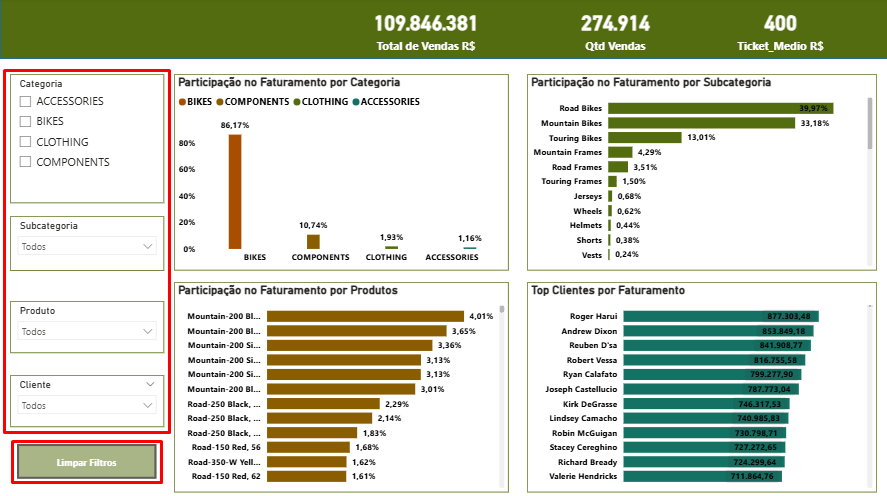

The dashboard page shown, as its layout file describes it:
{"tool":"powerbi","page":{"name":"Home","canvas":[1280,720],"ordinal":0},"visuals":[{"type":"shape","box":[0,0,1280.2,87.8],"z":0},{"type":"barChart","title":"Participação no Faturamento por Produtos","fields":{"Y":["fato_vendas_analitica.PercentualVendasProd"],"Category":["fato_vendas_analitica.Produto"]},"box":[251,408.7,482.2,303],"z":1000},{"type":"clusteredColumnChart","title":"Participação no Faturamento por Categoria","fields":{"Category":["fato_vendas_analitica.Categoria"],"Series":["fato_vendas_analitica.Categoria"],"Y":["fato_vendas_analitica.PercentualVendasCat"]},"box":[251,109.4,482.2,283.2],"z":2000},{"type":"barChart","title":"Participação no Faturamento por Subcategoria","fields":{"Category":["fato_vendas_analitica.Subcategoria"],"Y":["fato_vendas_analitica.PercentualVendasCat"]},"box":[758.3,109.4,503.8,283.2],"z":3000},{"type":"card","fields":{"Values":["fato_vendas_analitica.LineTotal"]},"box":[492.5,0,241.9,87.8],"z":4000},{"type":"card","fields":{"Values":["fato_vendas_analitica.Ticket_Medio"]},"box":[1028.2,0,191.5,87.8],"z":5000},{"type":"barChart","title":"Top Clientes por Faturamento","fields":{"Category":["fato_vendas_analitica.Cliente"],"Y":["fato_vendas_analitica.LineTotal"]},"box":[758.3,408.7,503.8,303],"z":6000},{"type":"slicer","fields":{"Values":["fato_vendas_analitica.Categoria"]},"box":[14.3,109.4,222.3,186.4],"z":7000},{"type":"slicer","fields":{"Values":["fato_vendas_analitica.Subcategoria"]},"box":[14.3,313.7,222.3,78.9],"z":8000},{"type":"slicer","fields":{"Values":["fato_vendas_analitica.Cliente"]},"box":[14.3,543.2,222.3,75.3],"z":9000},{"type":"slicer","fields":{"Values":["fato_vendas_analitica.Produto"]},"box":[14.3,435.6,222.3,75.3],"z":10000},{"type":"actionButton","box":[25.1,641.8,200.8,50.2],"z":11000},{"type":"card","fields":{"Values":["fato_vendas_analitica.OrderQty"]},"box":[790.6,0,191.5,87.8],"z":12000}]}

Visuals, with their boxes in screenshot pixels (x1, y1, x2, y2), scaled from the page's 1280x720 canvas onto the 887x496 screenshot:
shape: box=[0, 0, 886, 60]
"Participação no Faturamento por Produtos" barChart: box=[174, 282, 508, 490]
"Participação no Faturamento por Categoria" clusteredColumnChart: box=[174, 75, 508, 270]
"Participação no Faturamento por Subcategoria" barChart: box=[525, 75, 875, 270]
card - fato_vendas_analitica.LineTotal: box=[341, 0, 509, 60]
card - fato_vendas_analitica.Ticket_Medio: box=[713, 0, 845, 60]
"Top Clientes por Faturamento" barChart: box=[525, 282, 875, 490]
slicer - fato_vendas_analitica.Categoria: box=[10, 75, 164, 204]
slicer - fato_vendas_analitica.Subcategoria: box=[10, 216, 164, 270]
slicer - fato_vendas_analitica.Cliente: box=[10, 374, 164, 426]
slicer - fato_vendas_analitica.Produto: box=[10, 300, 164, 352]
actionButton: box=[17, 442, 157, 477]
card - fato_vendas_analitica.OrderQty: box=[548, 0, 681, 60]
